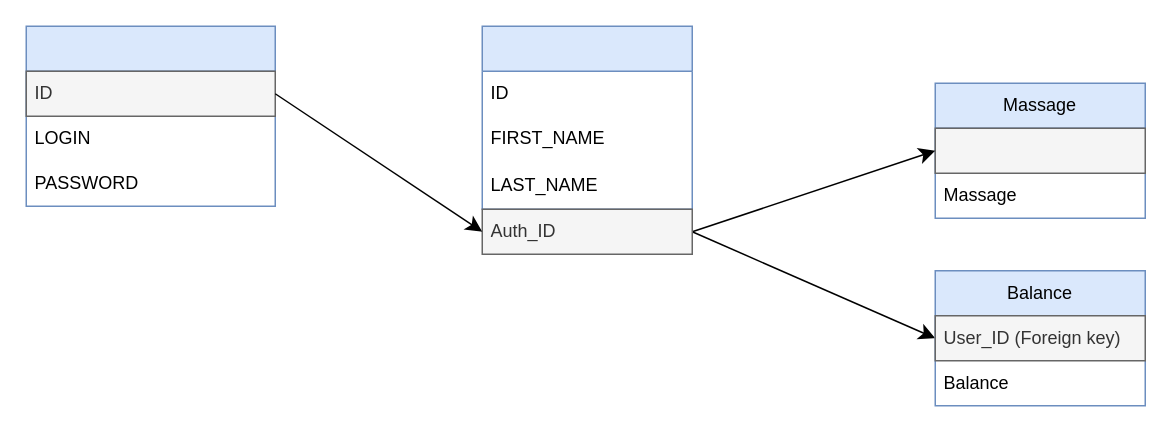
This 1172x432 diagram has some shape labels left out. Here are the shapes that lost their labels. From the top down, the box of each, then its label:
(25, 25, 275, 206): Authorization
(481, 25, 692, 209): Users
(934, 127, 1145, 173): Client_ID (Foreign key)
